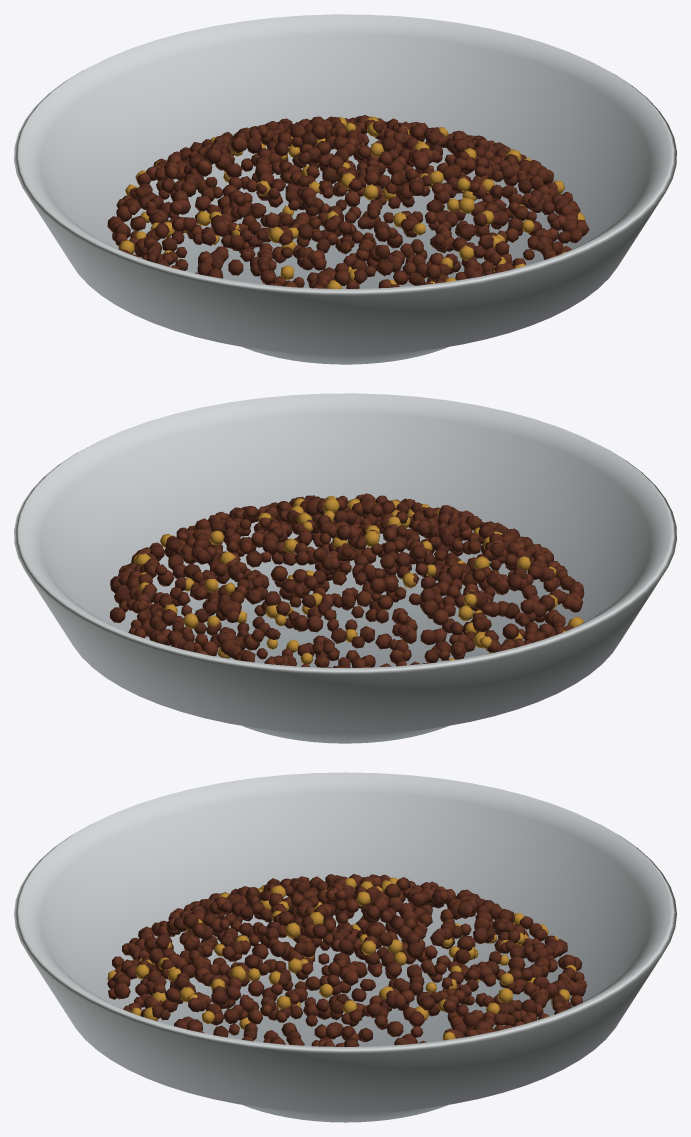
File: mustard-seeds.glb
The picture shows the model from 3 angles, top to bottom: view 1: azimuth 30°, elevation 25°; view 2: azimuth 150°, elevation 25°; view 3: azimuth 270°, elevation 25°; orthographic projection.
Parts seen in each view (by area): view 1: steel, seeds; view 2: steel, seeds; view 3: steel, seeds.
Boxes of the visible parts, box(x1,y1,x2,y2) form: steel: box(14, 14, 676, 364); seeds: box(107, 115, 589, 288); steel: box(14, 393, 676, 743); seeds: box(110, 493, 584, 667); steel: box(14, 772, 676, 1122); seeds: box(107, 874, 587, 1046).
Bounding box in the file's own units: 1.24 × 0.309 × 1.24.
